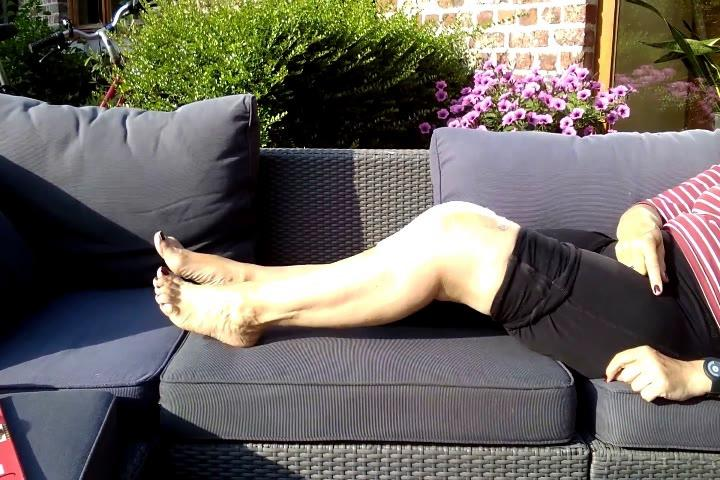lowerbody: (141, 191, 706, 392)
